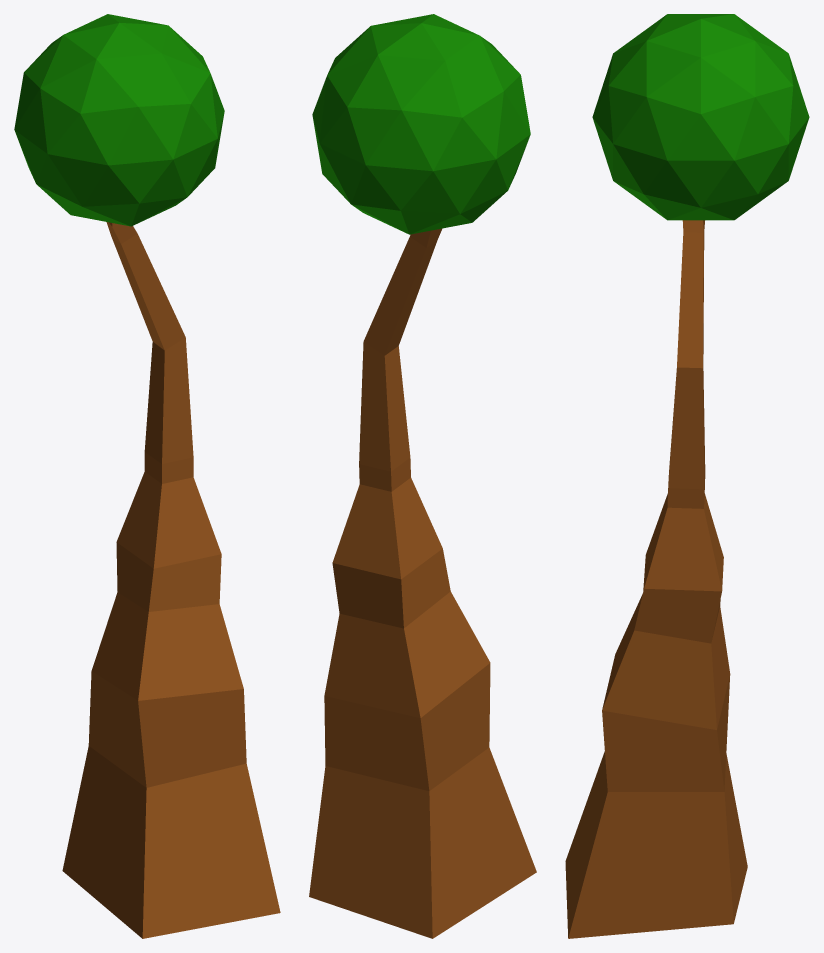
The model's file is Branch.fbx.
3 views of the same model, side by side, from view 1: azimuth 30°, elevation 25°; view 2: azimuth 150°, elevation 25°; view 3: azimuth 270°, elevation 25° (orthographic). The views are drawn at different scales.
Visible parts, largest first — view 1: Cube, Icosphere; view 2: Cube, Icosphere; view 3: Cube, Icosphere.
Part boxes in pixels (<box>): Cube: <box>62,222,280,938</box>; Icosphere: <box>14,14,224,226</box>; Cube: <box>309,228,536,938</box>; Icosphere: <box>312,14,530,234</box>; Cube: <box>565,220,747,938</box>; Icosphere: <box>592,14,809,220</box>.
Size of the model in its own units: 300 by 1350 by 342.
